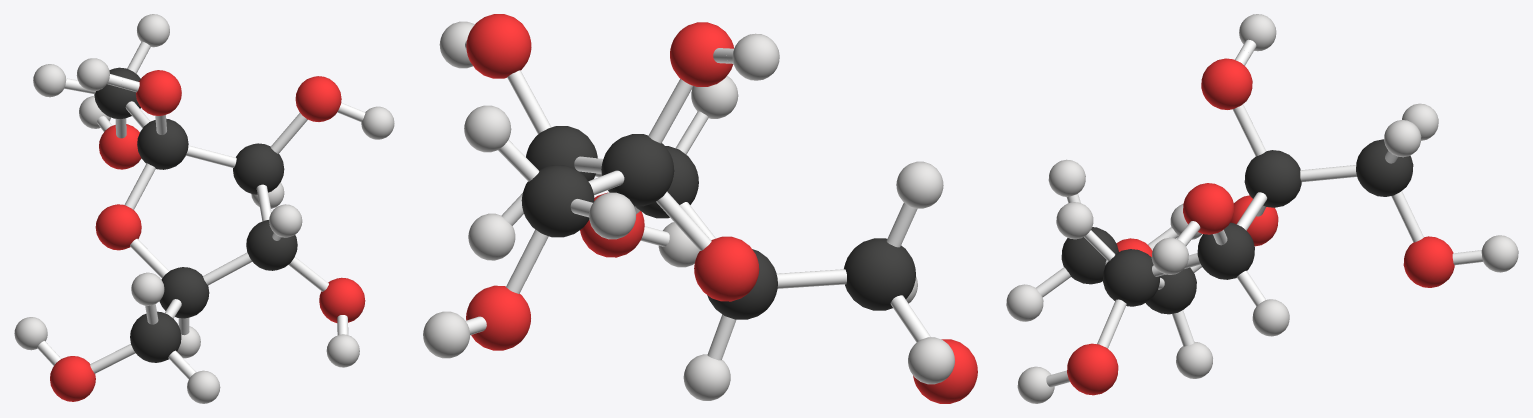
File: guotang.fbx
3 renders of one model, left to right at view 1: azimuth 30°, elevation 25°; view 2: azimuth 150°, elevation 25°; view 3: azimuth 270°, elevation 25°, orthographic. The views are drawn at different scales.
Visible parts, largest first — view 1: _0*174, _0*178, _0*173, _0*176, _0*175, _0*169, _0*172, _0*168, _0*167, _0*170, _0*171, _0*177 (+22 smaller); view 2: _0*178, _0*177, _0*173, _0*169, _0*167, _0*171, _0*168, _0*174, _0*172, _0*176, _0*184, _0*192 (+22 smaller); view 3: _0*173, _0*175, _0*174, _0*177, _0*170, _0*168, _0*171, _0*169, _0*178, _0*176, _0*167, _0*179 (+16 smaller).
Part boxes in pixels (<box>): _0*174: <box>233,143,284,194</box>; _0*178: <box>130,311,181,362</box>; _0*173: <box>137,119,188,169</box>; _0*176: <box>159,267,209,318</box>; _0*175: <box>246,220,297,270</box>; _0*169: <box>295,76,341,121</box>; _0*172: <box>50,356,95,401</box>; _0*168: <box>136,70,181,115</box>; _0*167: <box>95,204,141,250</box>; _0*170: <box>319,277,365,322</box>; _0*171: <box>99,124,141,169</box>; _0*177: <box>94,67,140,118</box>; _0*178: <box>844,238,915,310</box>; _0*177: <box>521,165,594,237</box>; _0*173: <box>601,134,674,206</box>; _0*169: <box>466,14,531,78</box>; _0*167: <box>694,236,759,301</box>; _0*171: <box>466,285,530,350</box>; _0*168: <box>670,22,734,86</box>; _0*174: <box>526,126,597,181</box>; _0*172: <box>913,339,977,403</box>; _0*176: <box>707,249,777,319</box>; _0*184: <box>896,161,943,208</box>; _0*192: <box>732,33,779,80</box>; _0*173: <box>1244,150,1301,207</box>; _0*175: <box>1103,249,1160,306</box>; _0*174: <box>1197,222,1254,279</box>; _0*177: <box>1356,139,1413,196</box>; _0*170: <box>1067,343,1118,395</box>; _0*168: <box>1201,58,1252,109</box>; _0*171: <box>1403,236,1454,287</box>; _0*169: <box>1183,183,1234,234</box>; _0*178: <box>1061,227,1118,284</box>; _0*176: <box>1146,267,1196,314</box>; _0*167: <box>1230,195,1278,246</box>; _0*179: <box>1252,299,1289,336</box>.
Bounding box in the file's own units: 118 × 89.73 × 127.
